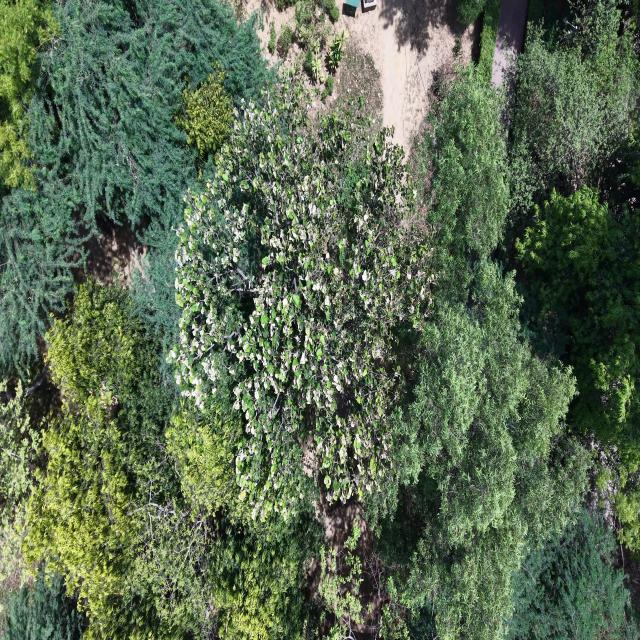DRY_AREA: (334, 0, 481, 151), (334, 0, 479, 150), (87, 219, 146, 283), (492, 0, 527, 86)
VEGETATION_TREE: (0, 0, 639, 639), (170, 86, 588, 637), (379, 69, 588, 637), (170, 83, 433, 517), (23, 282, 320, 638), (0, 0, 267, 374), (380, 263, 588, 638), (508, 2, 639, 549), (23, 281, 177, 638), (29, 0, 265, 227), (134, 401, 323, 639), (517, 186, 639, 547), (517, 187, 639, 461), (509, 0, 639, 214), (410, 66, 509, 298), (0, 180, 90, 377), (509, 510, 637, 639), (0, 0, 57, 194), (0, 381, 41, 616), (273, 0, 346, 84), (2, 572, 85, 639), (176, 65, 233, 162), (318, 520, 366, 633), (334, 42, 382, 139), (455, 0, 501, 84), (293, 0, 338, 51), (477, 0, 501, 84), (294, 0, 332, 53), (304, 40, 324, 84), (328, 30, 348, 72), (456, 0, 487, 24), (277, 24, 293, 58), (322, 0, 339, 22), (321, 76, 333, 102), (268, 21, 276, 55)
